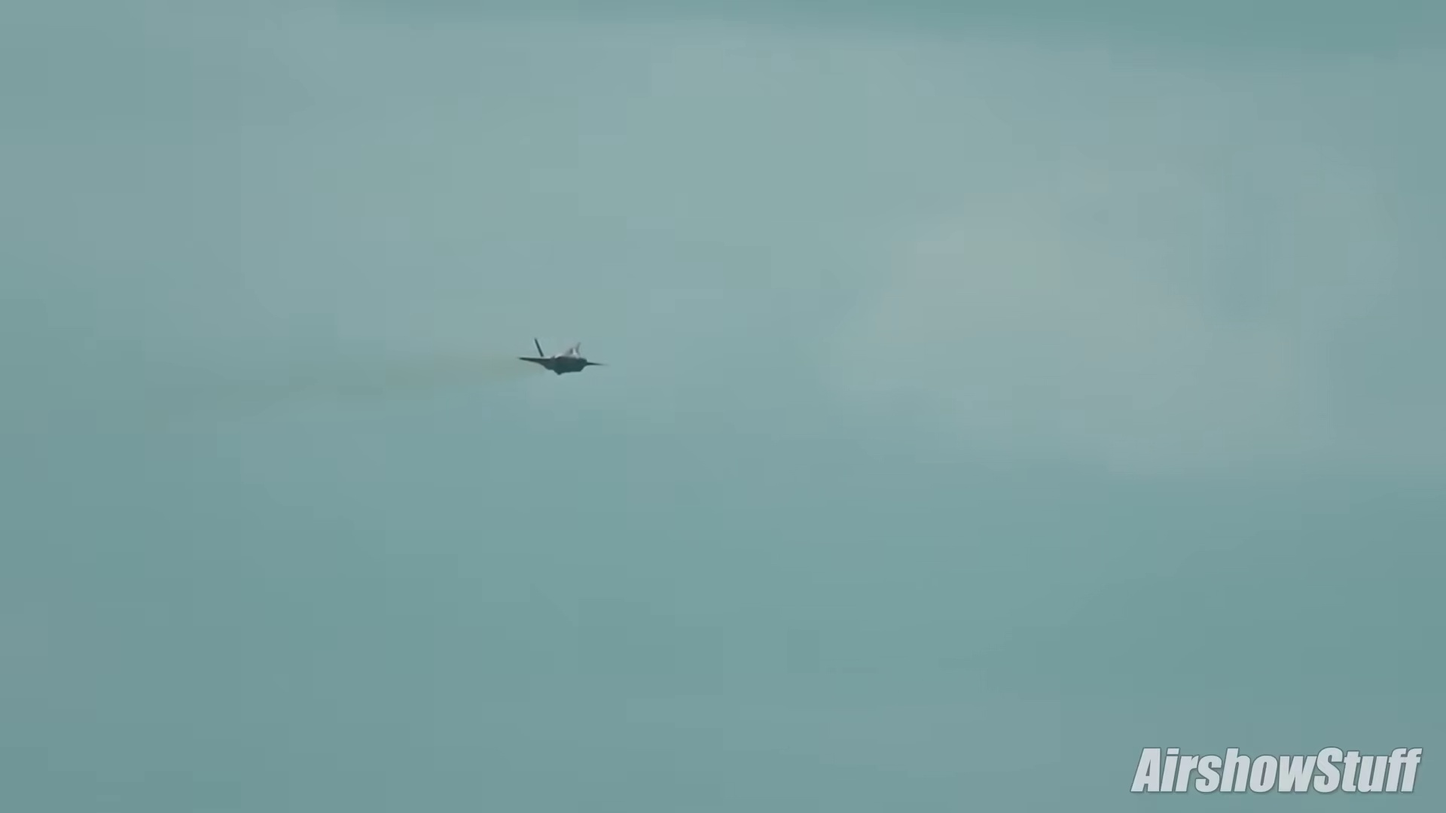F35: (514, 330, 610, 384)
